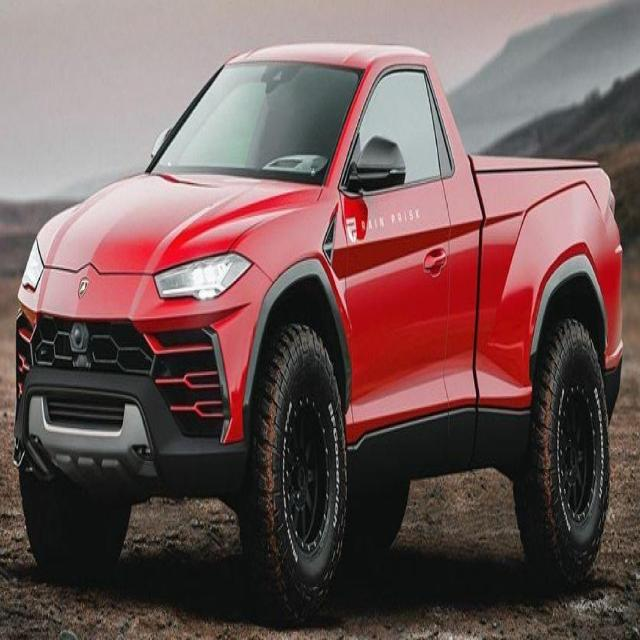CMT: (33, 30, 640, 611)
